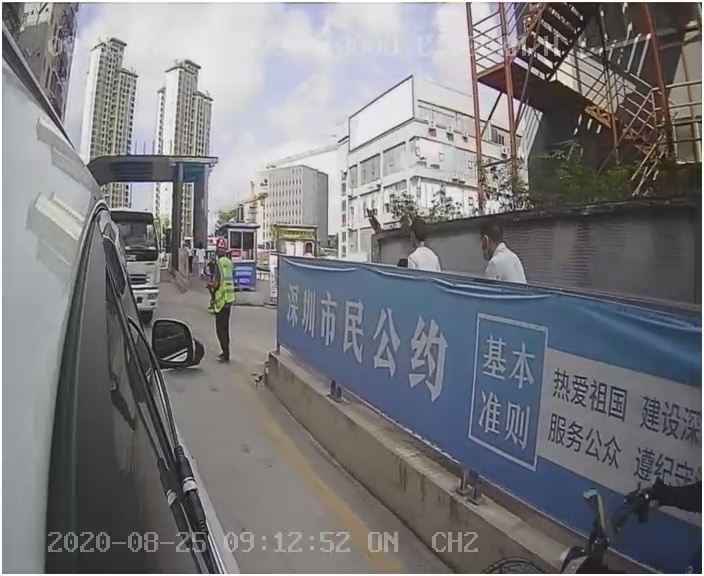person: (204, 235, 243, 364)
